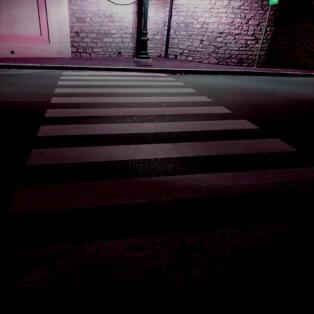Paso de Cebra: (21, 117, 314, 171), (50, 80, 200, 95)
